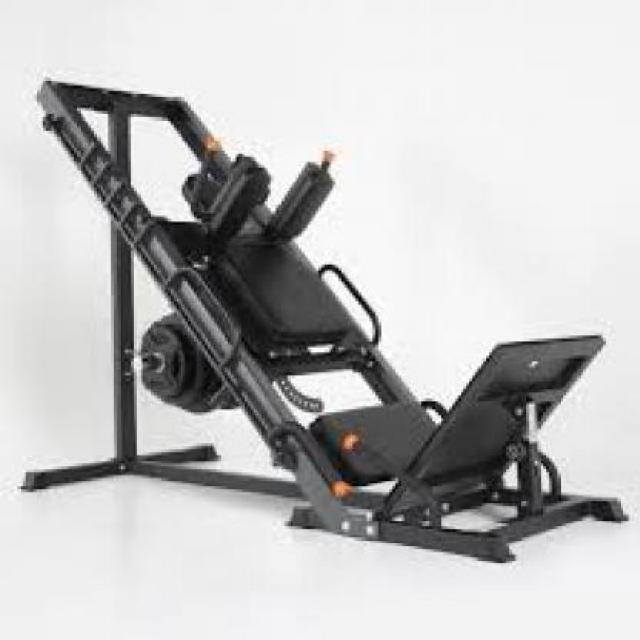leg press: (12, 29, 637, 600)
